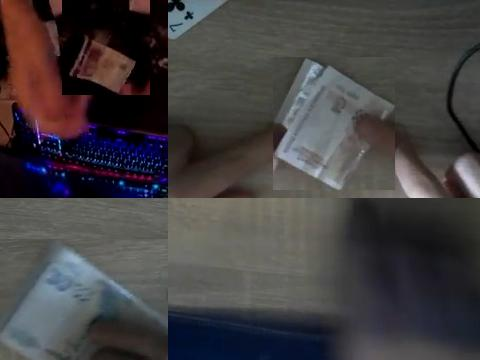20leva: (0, 239, 168, 360)
50leva: (62, 0, 150, 95)
5leva: (273, 57, 395, 190)
